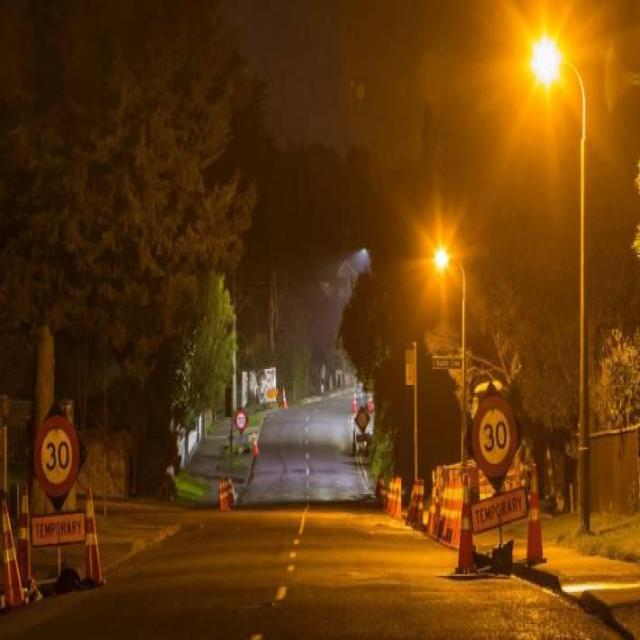other: (416, 210, 471, 327), (512, 20, 568, 109)
